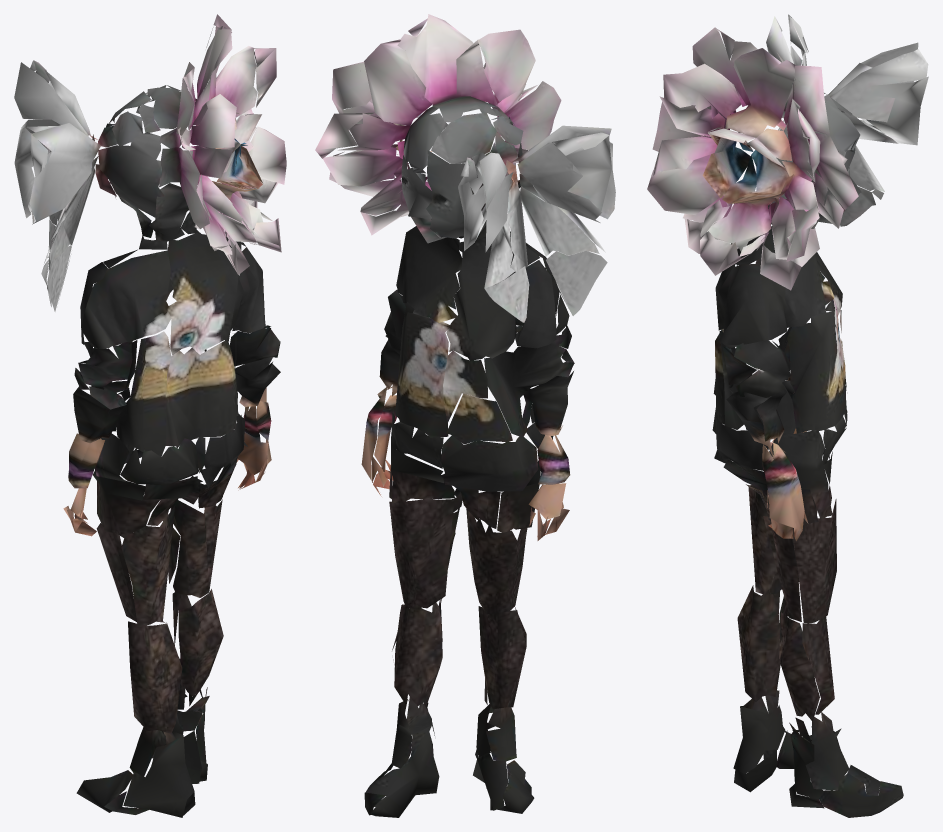
File: crowd_susan_full.glb
3 renders of one model, left to right at view 1: azimuth 30°, elevation 25°; view 2: azimuth 150°, elevation 25°; view 3: azimuth 270°, elevation 25°, orthographic.
Parts seen in each view (by area): view 1: tripo_node_fbabcdb4-667d-453d-b6af-065c32072f40; view 2: tripo_node_fbabcdb4-667d-453d-b6af-065c32072f40; view 3: tripo_node_fbabcdb4-667d-453d-b6af-065c32072f40.
Part boxes in pixels (x1,y1,x2,y2): tripo_node_fbabcdb4-667d-453d-b6af-065c32072f40: (14,14,286,817); tripo_node_fbabcdb4-667d-453d-b6af-065c32072f40: (315,14,615,817); tripo_node_fbabcdb4-667d-453d-b6af-065c32072f40: (647,14,928,817).
Bounding box in the file's own units: 0.382 × 1 × 0.3331.
Materials: 1 (1 with a texture image).
